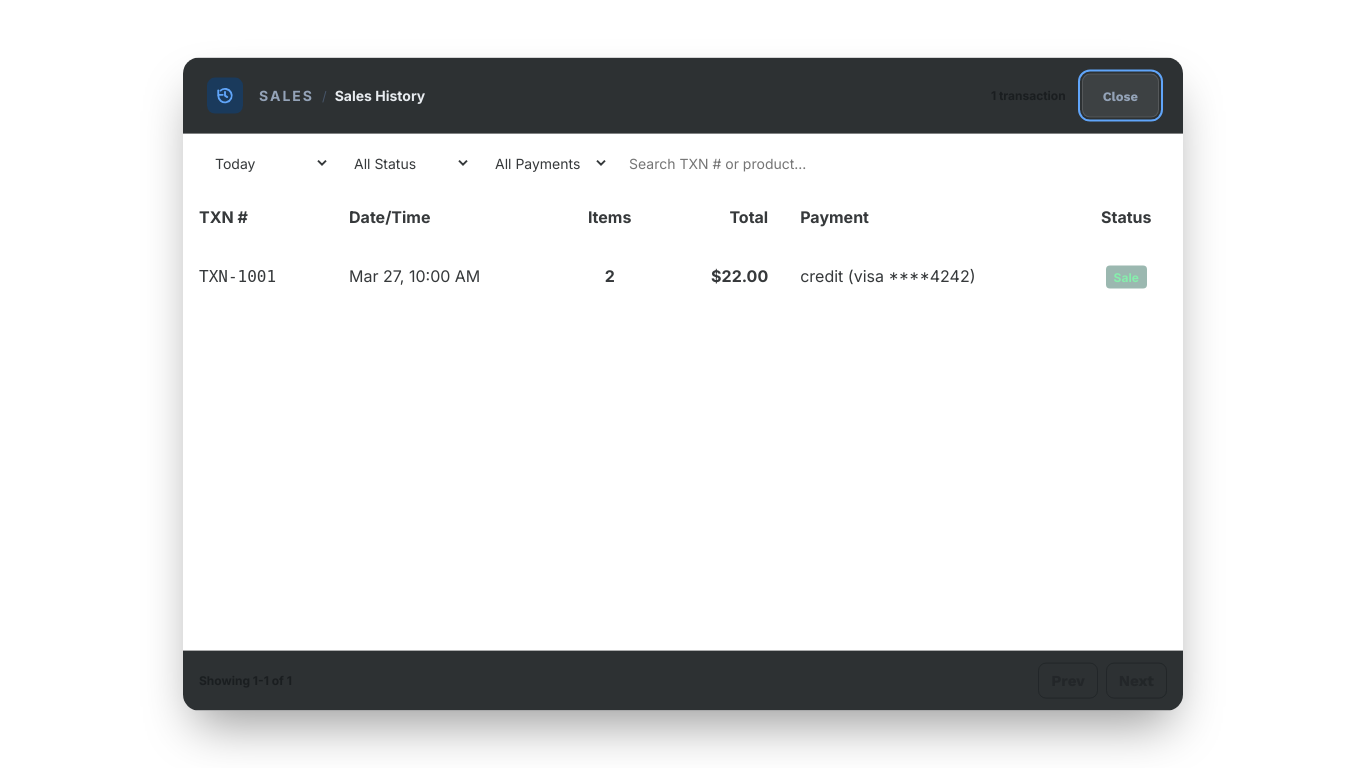
Test: SalesHistoryModal › collapses expanded row when clicked again
The image size is (1366, 768).
What coordinates should you click on to do the following:
click the row with test id "sales-history-row-1"
I would click on:
 (238, 276)
Its box is [183,242,1183,310].
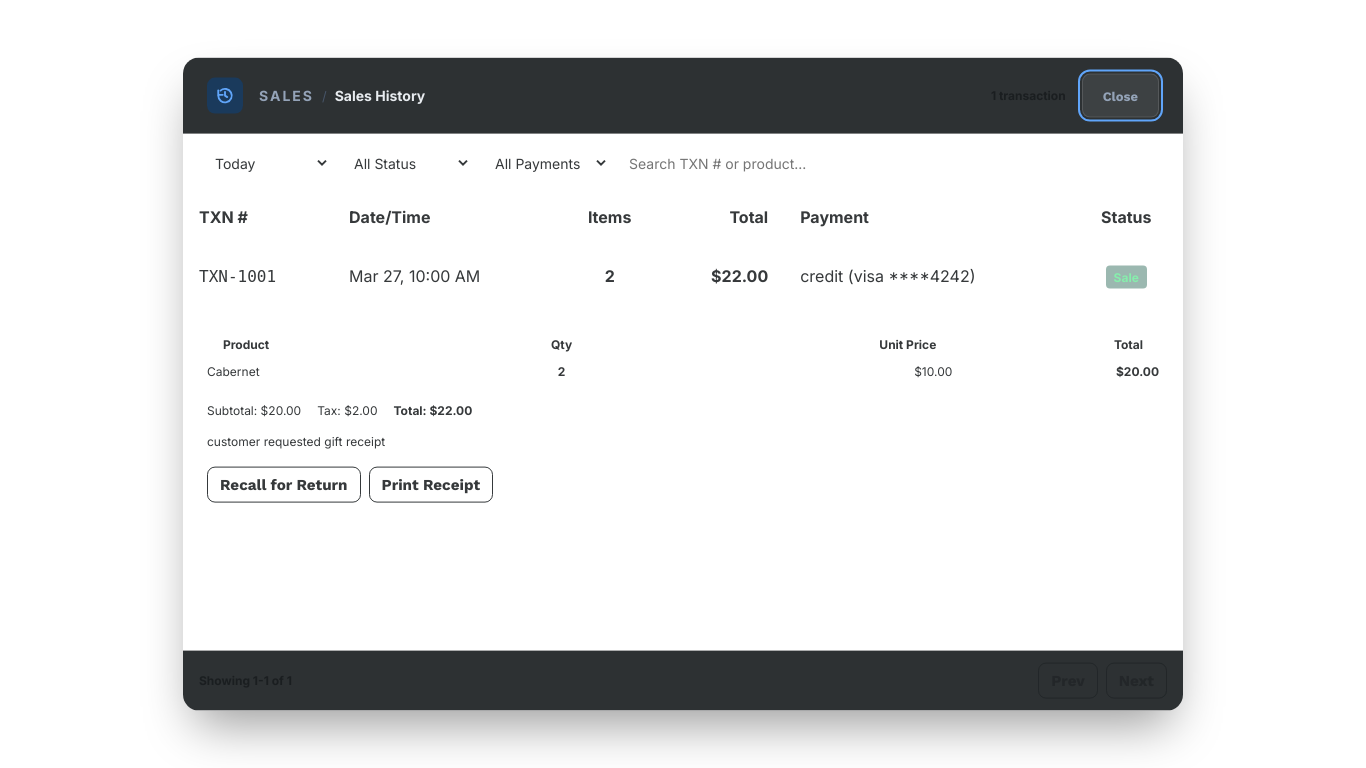
Check: the table with test id "sales-history-detail-items" is shown, box [207,322,1159,385]
What coordinates should you click on to do the following:
click the row with test id "sales-history-row-1"
I would click on:
 (238, 276)
Its box is [183,242,1183,310].
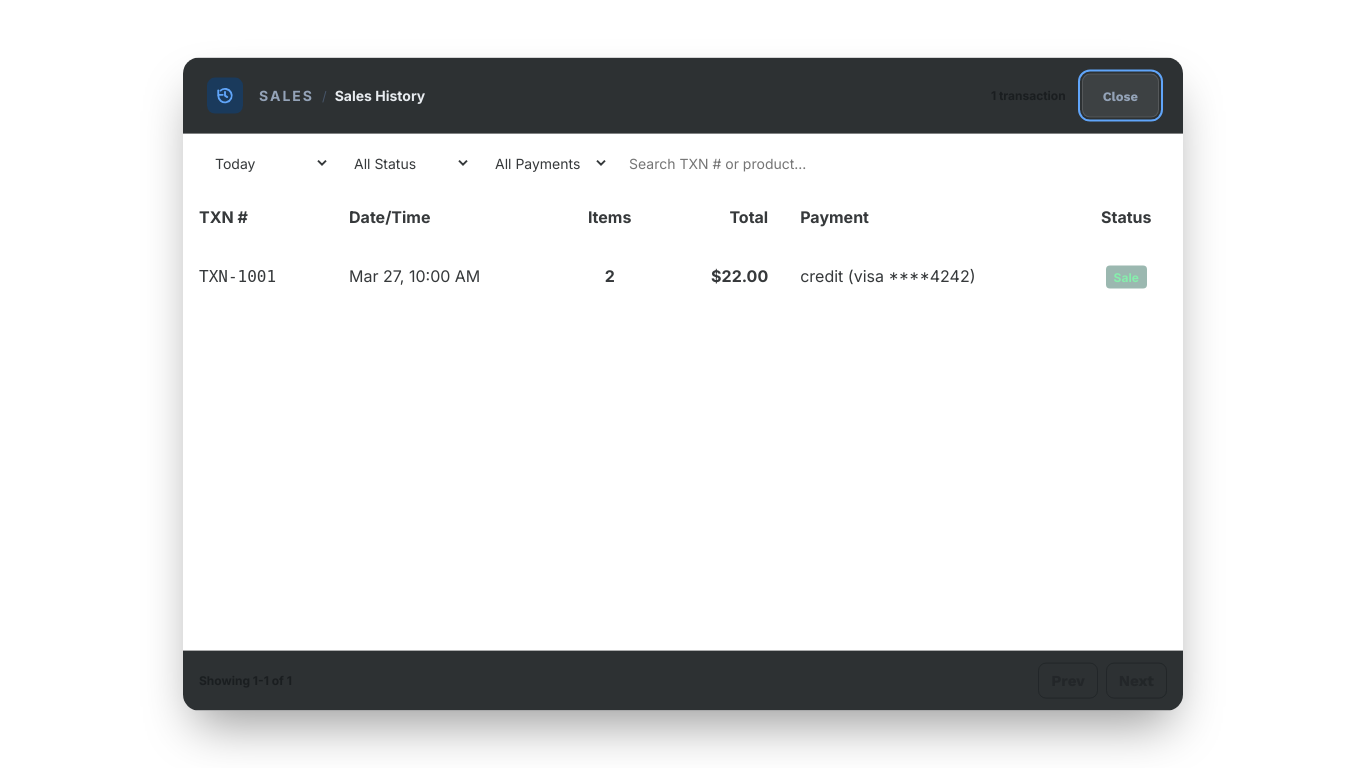
Check: the table with test id "sales-history-detail-items" is gone
